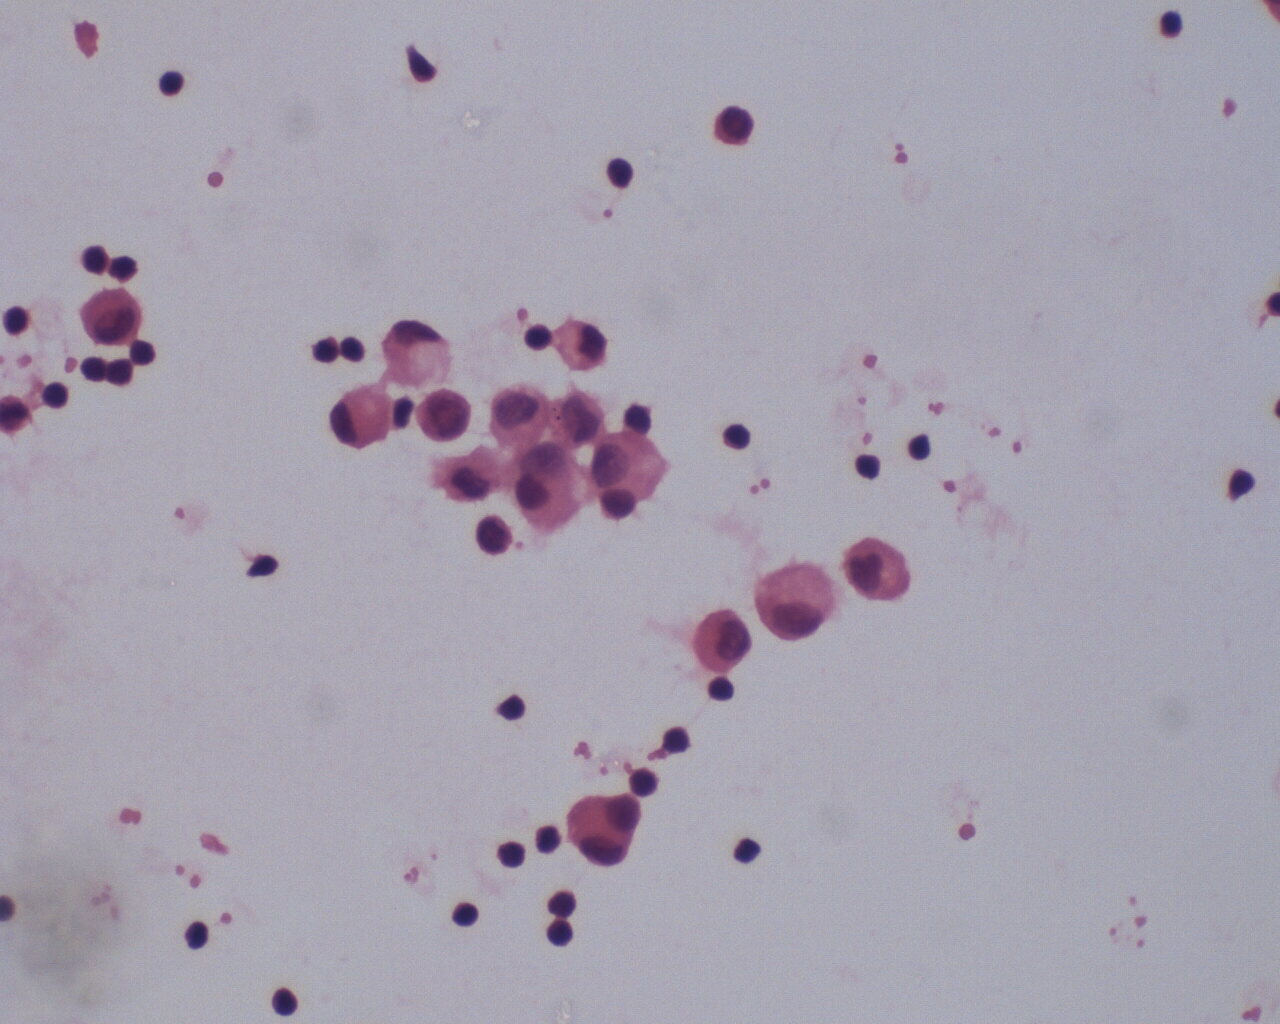ab: (688, 606, 759, 674), (413, 385, 479, 445), (549, 383, 605, 452)
histo: (750, 558, 836, 646), (376, 317, 457, 389), (327, 383, 395, 453)
lymph: (474, 513, 517, 566), (70, 235, 109, 276), (495, 831, 530, 876), (720, 415, 755, 458), (446, 897, 485, 934), (603, 152, 639, 190), (625, 762, 659, 801), (705, 674, 741, 709), (265, 983, 301, 1017), (156, 65, 186, 103), (734, 834, 763, 871)
meso: (71, 287, 147, 347)
